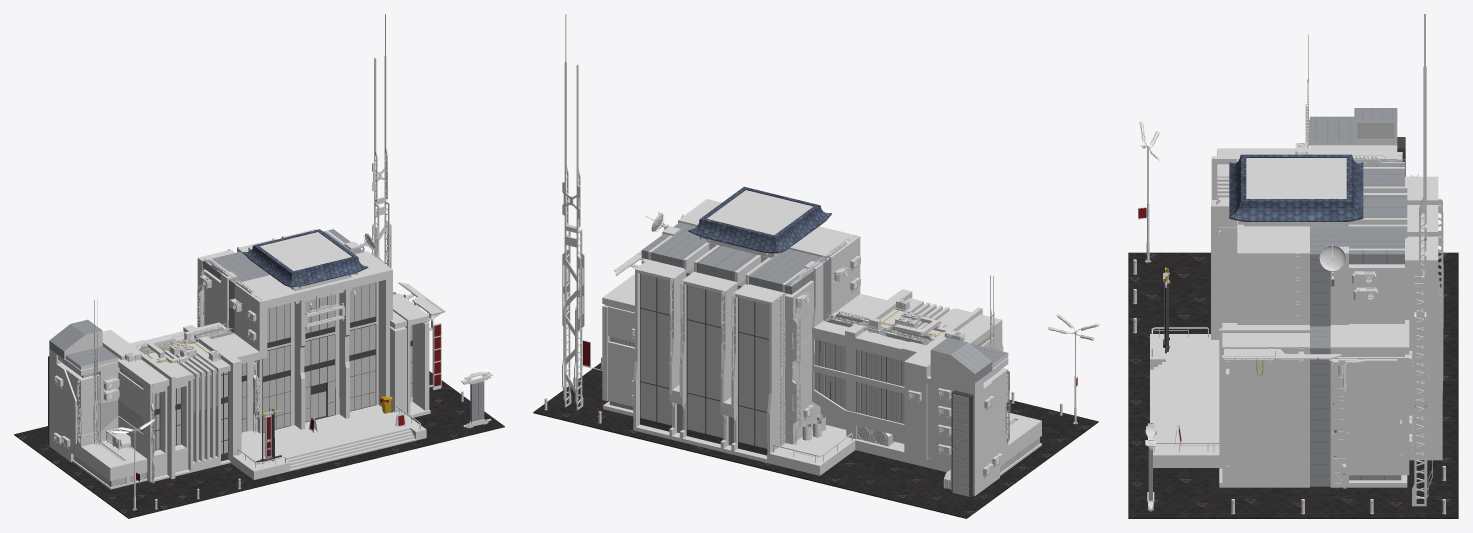
Rendered from KB3D_NEC_BldgMD_A.fbx.
The picture shows the model from 3 angles, left to right: view 1: azimuth 30°, elevation 25°; view 2: azimuth 150°, elevation 25°; view 3: azimuth 270°, elevation 25°; orthographic projection. The views are drawn at different scales.
Visible parts, largest first — view 1: KB3D_NEC_BldgMD_A_Main, KB3D_NEC_BldgMD_A_Base, KB3D_NEC_BldgMD_A_AntennaA, KB3D_NEC_BldgMD_A_Banners; view 2: KB3D_NEC_BldgMD_A_Main, KB3D_NEC_BldgMD_A_Base, KB3D_NEC_BldgMD_A_AntennaA; view 3: KB3D_NEC_BldgMD_A_Main, KB3D_NEC_BldgMD_A_Base, KB3D_NEC_BldgMD_A_AntennaA, KB3D_NEC_BldgMD_A_Banners.
Part boxes in pixels (x1,y1,x2,y2): KB3D_NEC_BldgMD_A_Main: (48,229,445,489); KB3D_NEC_BldgMD_A_Base: (14,371,504,518); KB3D_NEC_BldgMD_A_AntennaA: (372,14,391,268); KB3D_NEC_BldgMD_A_Banners: (255,408,281,463); KB3D_NEC_BldgMD_A_Main: (582,186,1041,497); KB3D_NEC_BldgMD_A_Base: (533,314,1099,518); KB3D_NEC_BldgMD_A_AntennaA: (562,14,584,410); KB3D_NEC_BldgMD_A_Main: (1150,34,1443,488); KB3D_NEC_BldgMD_A_Base: (1128,121,1458,518); KB3D_NEC_BldgMD_A_AntennaA: (1412,14,1432,506); KB3D_NEC_BldgMD_A_Banners: (1163,267,1169,353).
Size of the model in its own units: 3179 by 2713 by 1645.
